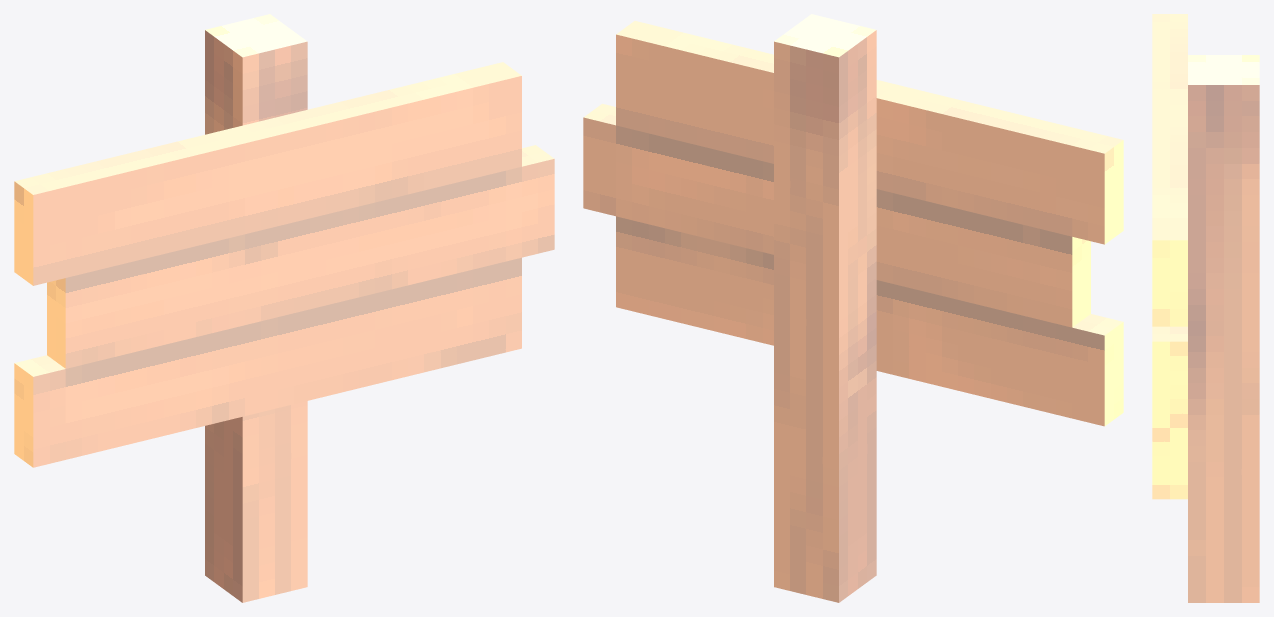
File: sign.glb
The picture shows the model from 3 angles, left to right: view 1: azimuth 30°, elevation 25°; view 2: azimuth 150°, elevation 25°; view 3: azimuth 270°, elevation 25°; orthographic projection. The views are drawn at different scales.
Visible parts, largest first — view 1: Sign; view 2: Sign; view 3: Sign.
Part boxes in pixels (bbox=[...]): Sign: bbox=[14, 14, 554, 602]; Sign: bbox=[583, 14, 1123, 602]; Sign: bbox=[1152, 14, 1259, 602].
Size of the model in its own units: 2 by 2 by 0.375.
